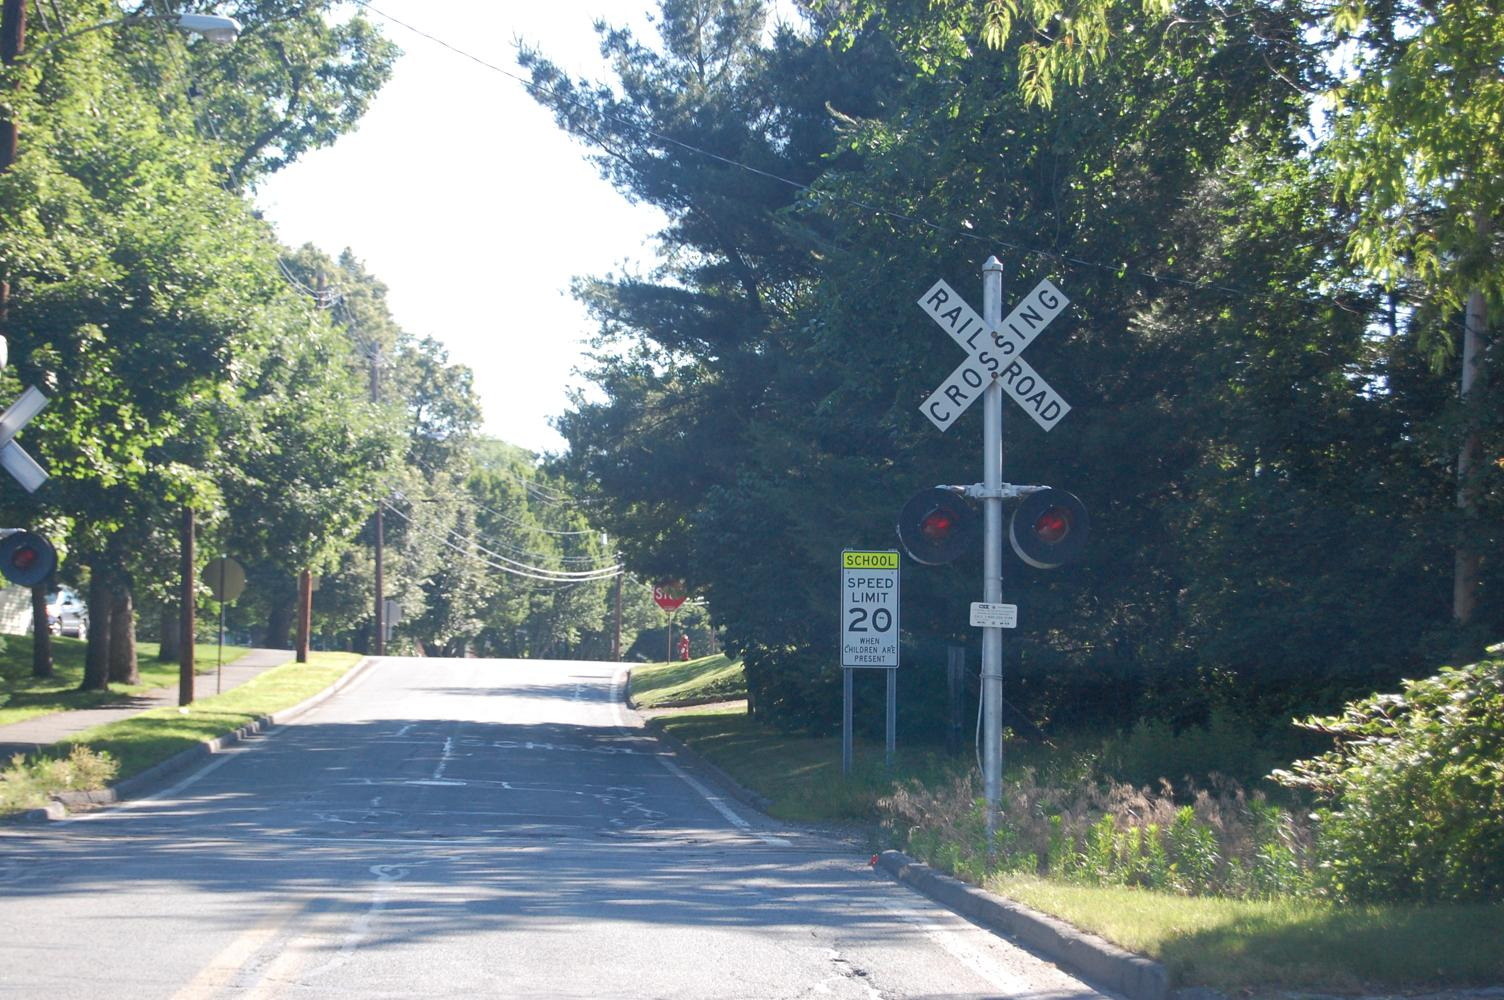stop: (650, 571, 697, 623)
